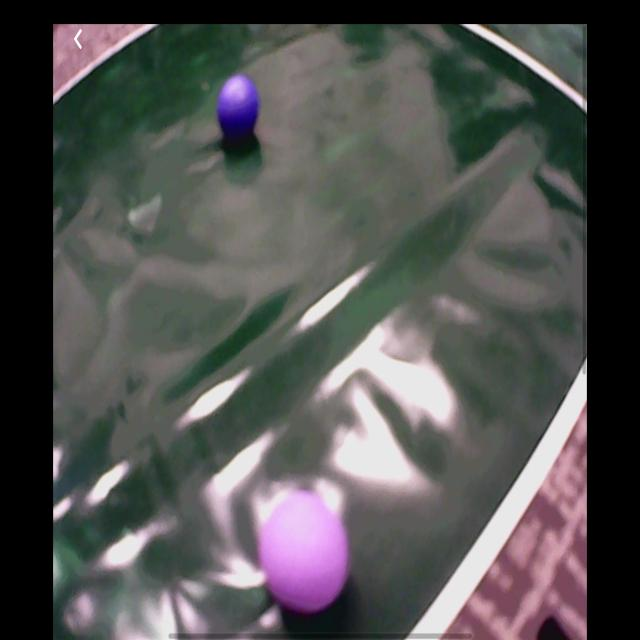ball: (259, 492, 351, 613), (218, 75, 261, 136)
